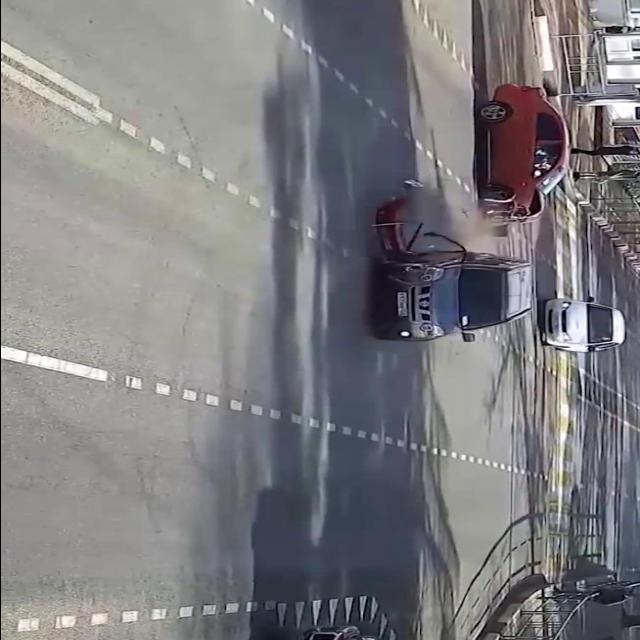accident: (336, 185, 544, 358), (462, 77, 610, 236)
